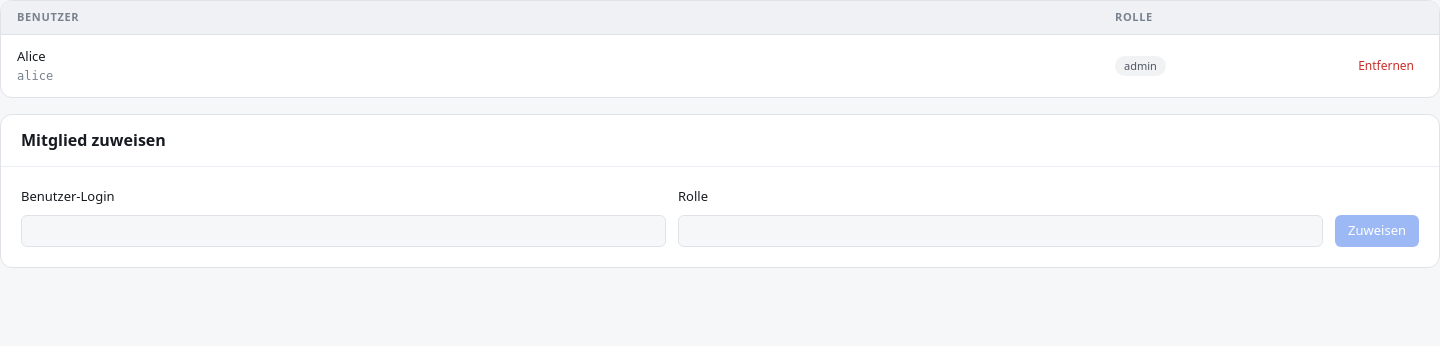
Scenario: WorkspaceMembers › aborts remove when a before-remove hook cancels
Click the button with class "is-danger-ghost": (1386, 66) [1349, 53, 1423, 79]
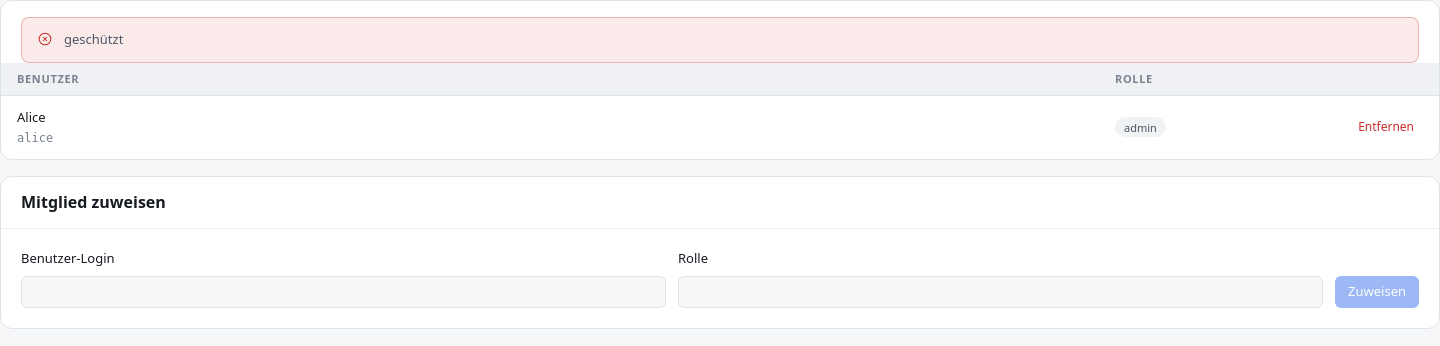
Expected: the text "geschützt" is shown, [64, 30, 123, 48]
